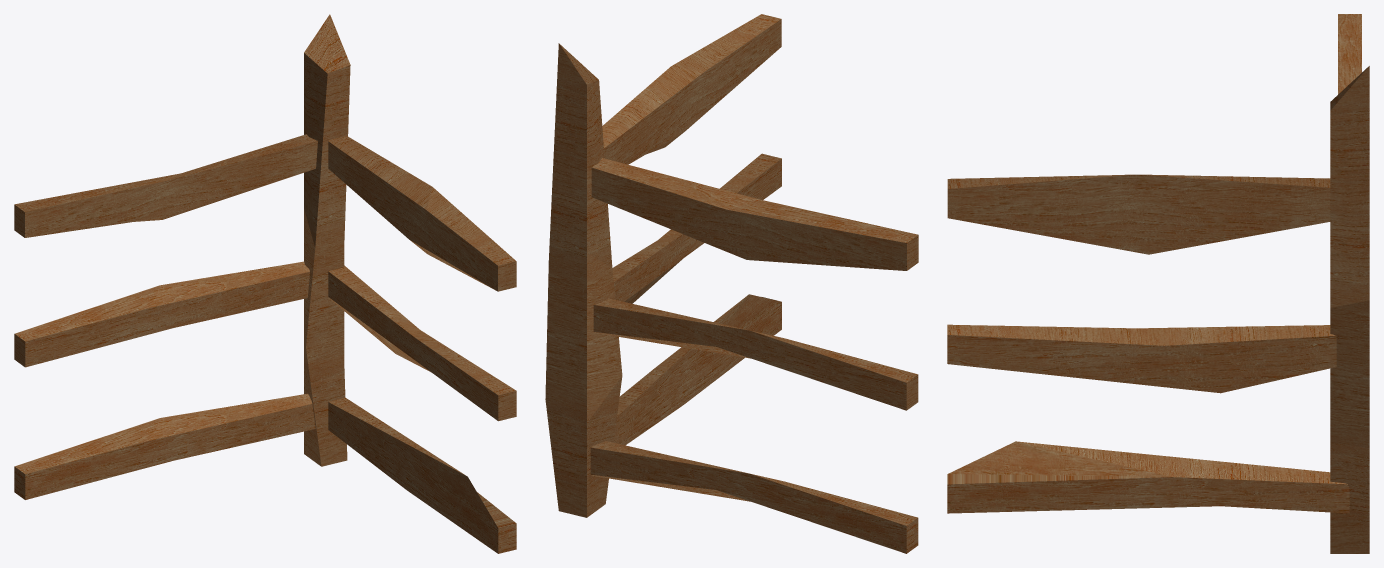
The picture shows the model from 3 angles, left to right: view 1: azimuth 30°, elevation 25°; view 2: azimuth 150°, elevation 25°; view 3: azimuth 270°, elevation 25°; orthographic projection. The views are drawn at different scales.
Parts seen in each view (by area): view 1: vall003_Material_0; view 2: vall003_Material_0; view 3: vall003_Material_0.
Part boxes in pixels (x1,y1,x2,y2): vall003_Material_0: (14,14,516,553); vall003_Material_0: (545,14,918,553); vall003_Material_0: (947,14,1369,553).
Bounding box in the file's own units: 1.07 × 1.34 × 1.05.
Materials: 1 (1 with a texture image).
